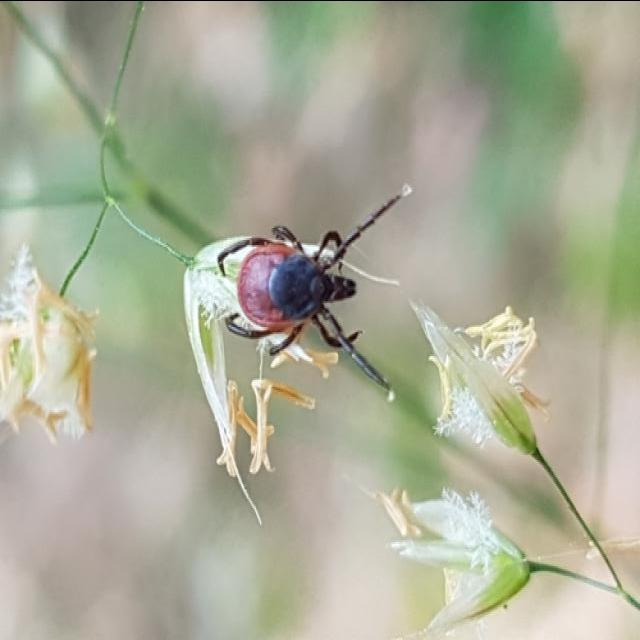Ixodes Ricinus-F: (215, 184, 412, 398)
